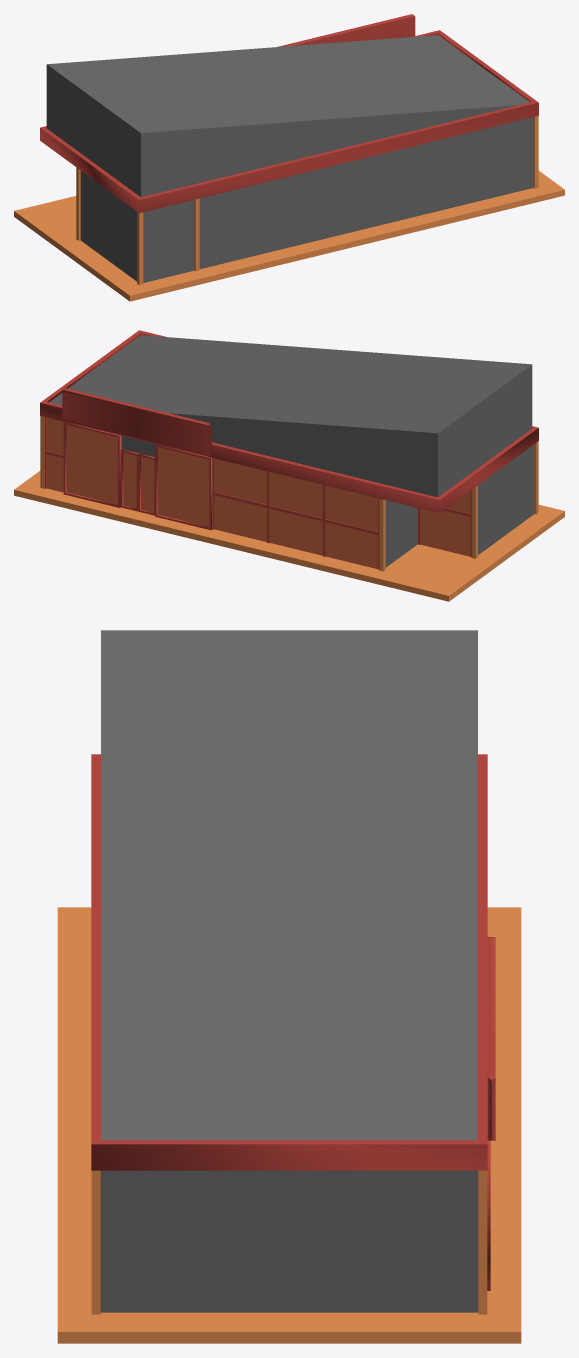
Rendered from Convenience Stores(2).glb.
The picture shows the model from 3 angles, top to bottom: view 1: azimuth 30°, elevation 25°; view 2: azimuth 150°, elevation 25°; view 3: azimuth 270°, elevation 25°; orthographic projection. The views are drawn at different scales.
Parts seen in each view (by area): view 1: Root; view 2: Root; view 3: Root.
Boxes of the visible parts, x1,y1,x2,y2 form: Root: (14,14,564,301); Root: (14,330,564,601); Root: (57,630,521,1343).
Size of the model in its own units: 18.61 by 6.35 by 8.6.
